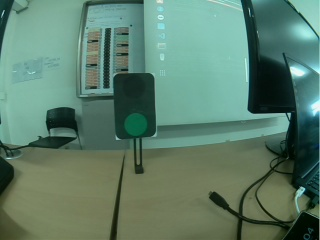green_light: (117, 74, 153, 137)
